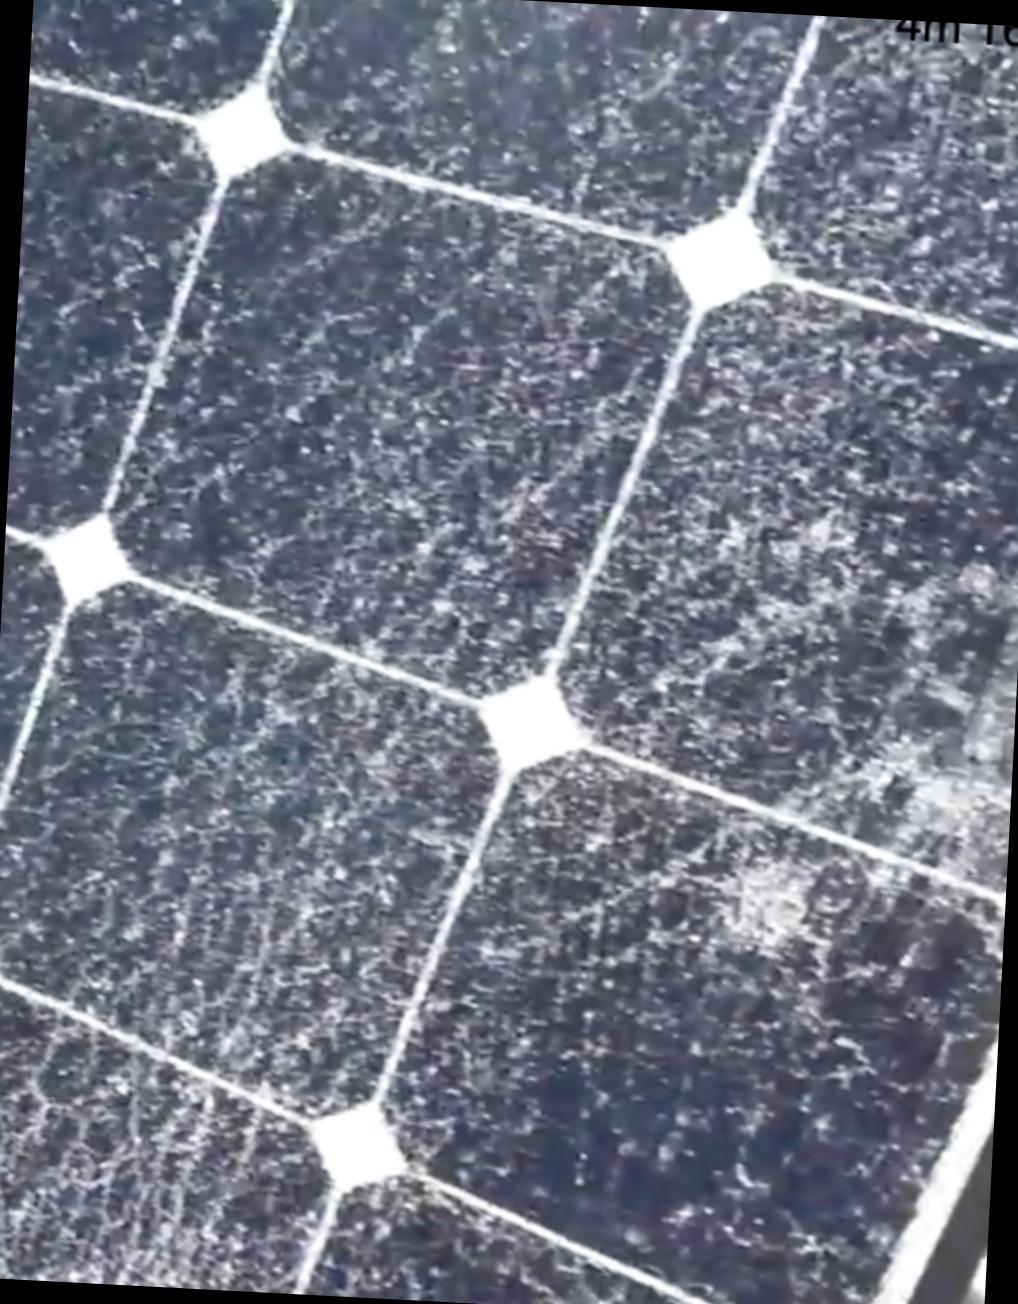Crack: (0, 0, 1017, 1303), (673, 525, 1017, 1028)
